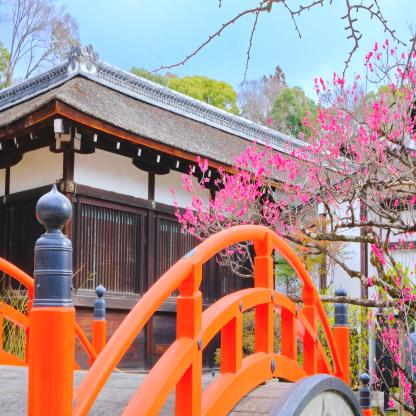Ume: (170, 30, 416, 416)
